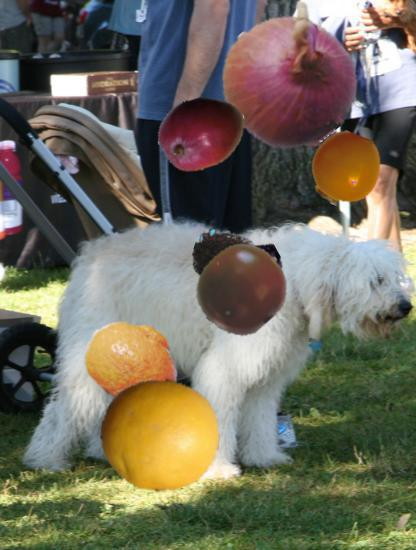Dates: (195, 231, 286, 322)
Grapefruit: (101, 376, 220, 495)
Mandarine: (84, 313, 184, 413)
Mango: (157, 88, 247, 178)
Onion: (221, 14, 357, 150)
Physalis: (308, 133, 382, 207)
Rambutan: (191, 227, 260, 296)
Tomato: (196, 243, 288, 335)
